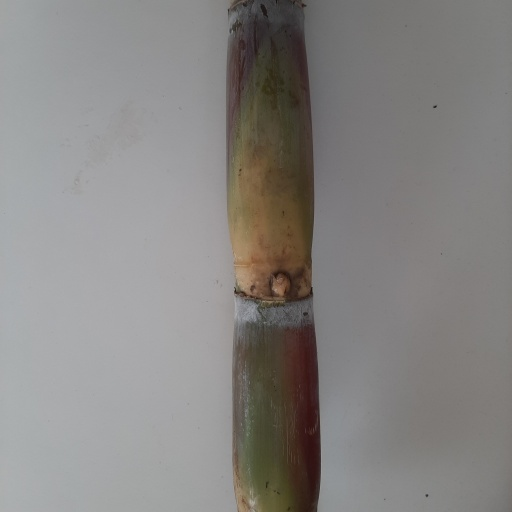Bud: (267, 270, 294, 301)
